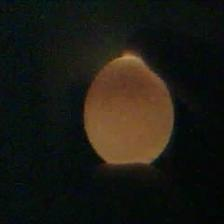infertile: (81, 50, 178, 168)
